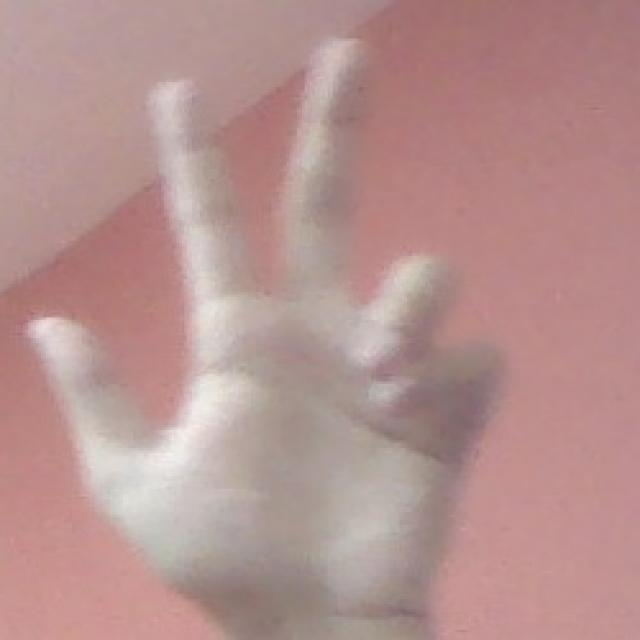Numeric-3: (27, 35, 490, 629)
